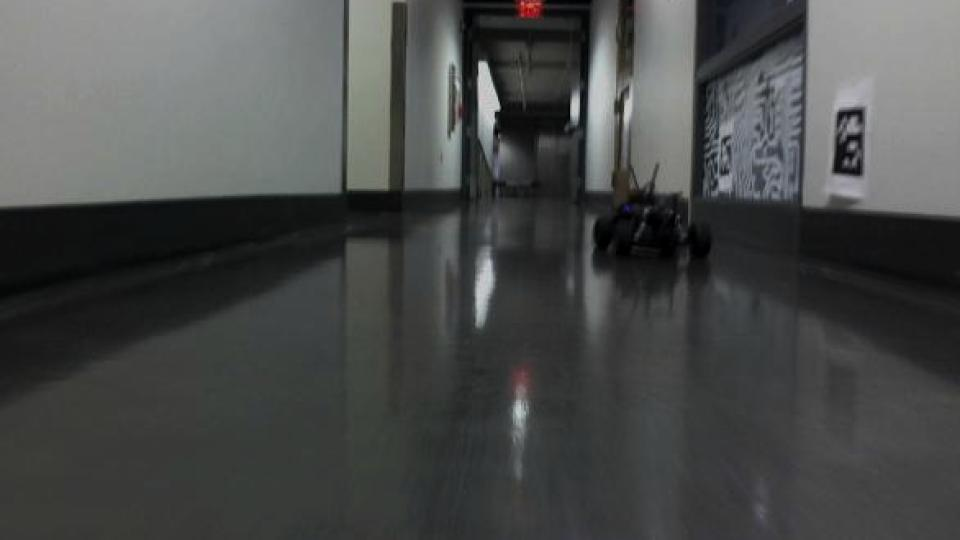car: (590, 160, 718, 265)
